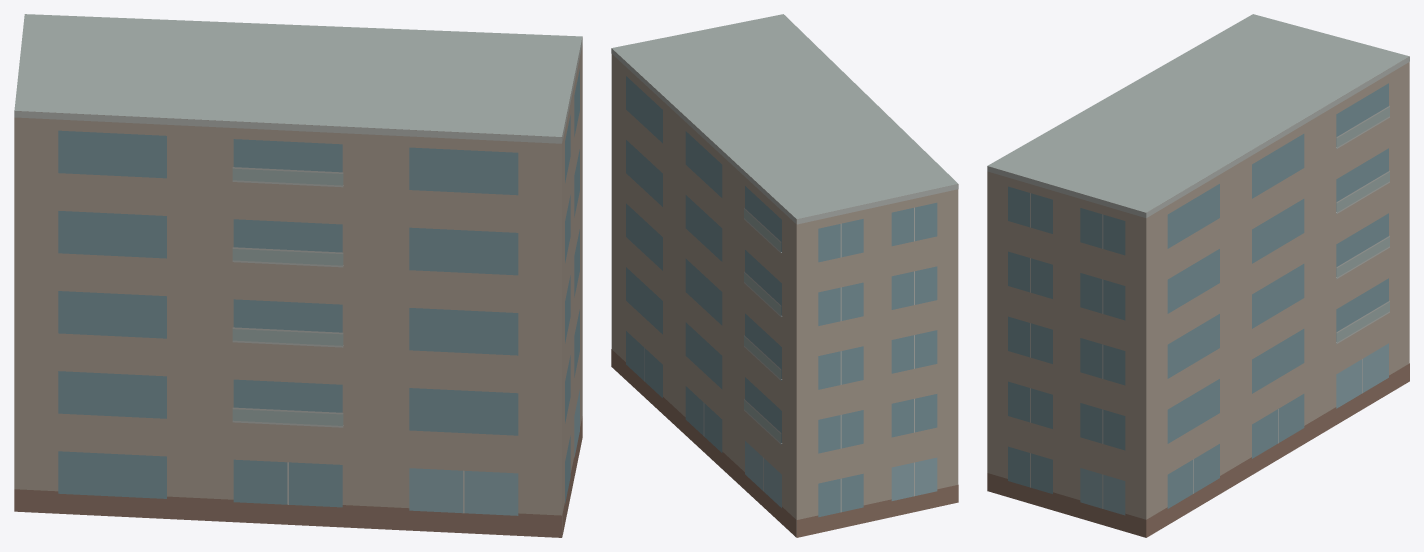
Rendered from survey-upis-32650180.glb.
The picture shows the model from 3 angles, left to right: view 1: azimuth 30°, elevation 25°; view 2: azimuth 150°, elevation 25°; view 3: azimuth 270°, elevation 25°; orthographic projection. The views are drawn at different scales.
Visible parts, largest first — view 1: survey-upis-32650180.tmp; view 2: survey-upis-32650180.tmp; view 3: survey-upis-32650180.tmp.
Boxes of the visible parts, bbox=[...] form: survey-upis-32650180.tmp: bbox=[14, 14, 582, 537]; survey-upis-32650180.tmp: bbox=[611, 14, 958, 537]; survey-upis-32650180.tmp: bbox=[987, 14, 1409, 537].
Bounding box in the file's own units: 19.16 × 14.6 × 17.21.
